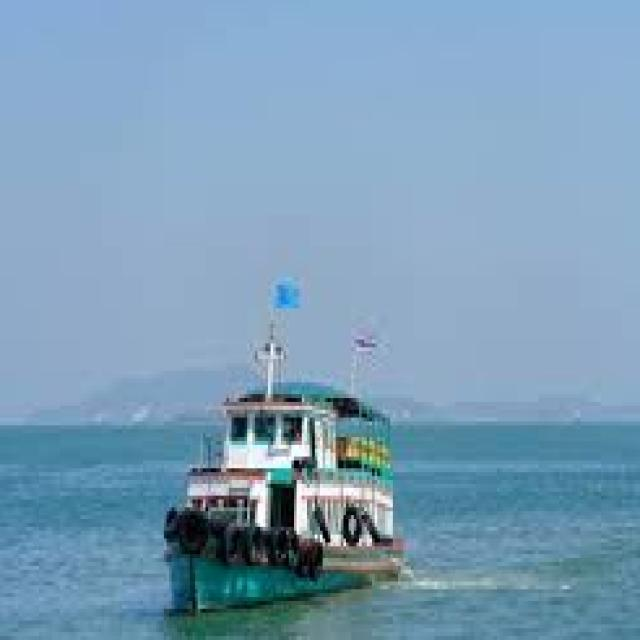fishing boat: (162, 305, 415, 610)
